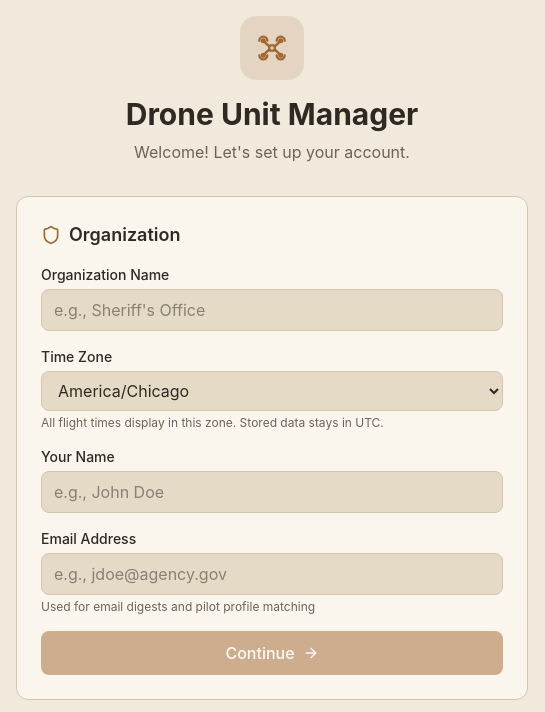
Test case: SetupPage › keeps Create Account disabled on a fresh install until the install token is entered
The image size is (545, 712).
In the field labelled "Your Name": (272, 492) [41,471,503,513], type "John Doe"
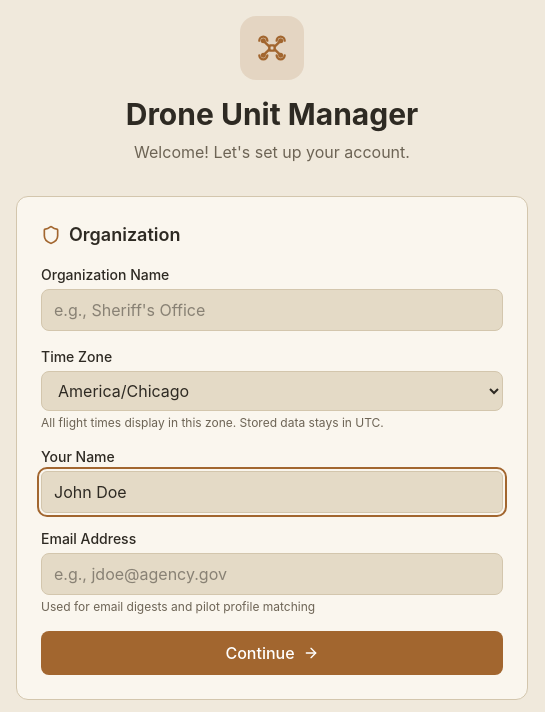
Click the button "Continue": (272, 653) [41,631,503,675]
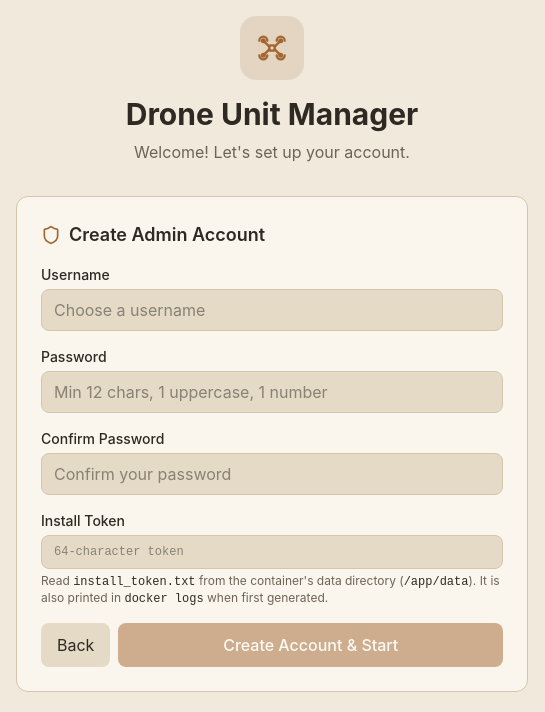
In the field labelled "Username": (272, 310) [41,289,503,331], type "admin"
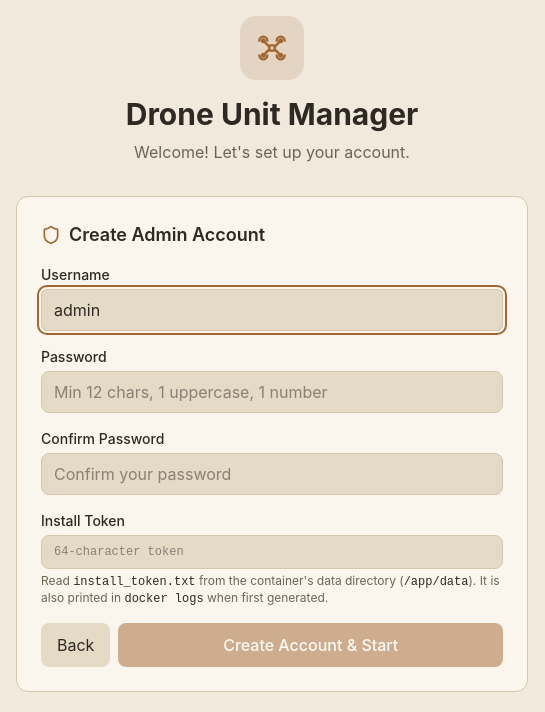
In the password field labelled "Password": (272, 392) [41,371,503,413], type "Password1234"
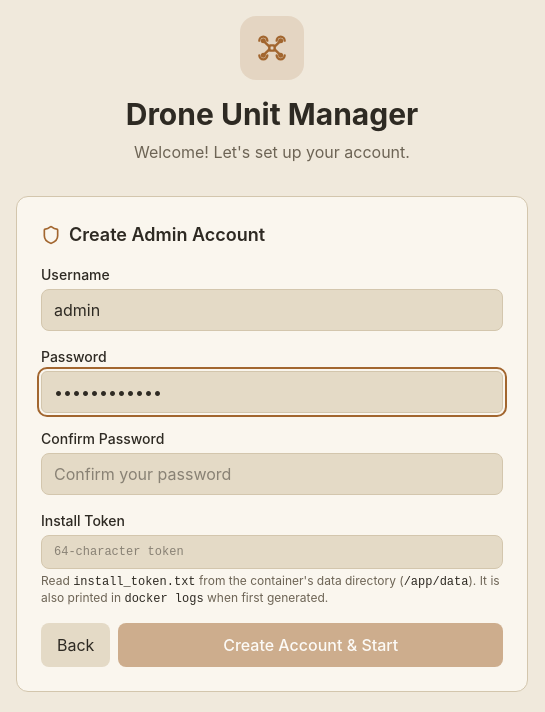
In the password field labelled "Confirm Password": (272, 474) [41,453,503,495], type "Password1234"
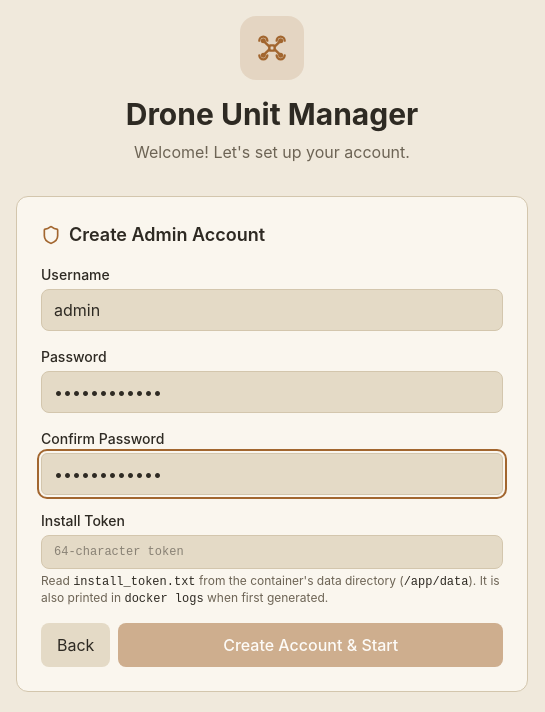
Check: the button "Create Account & Start" is disabled, box [118,623,503,667]
In the field labelled "Install Token": (272, 552) [41,535,503,569], type "the-install-token"
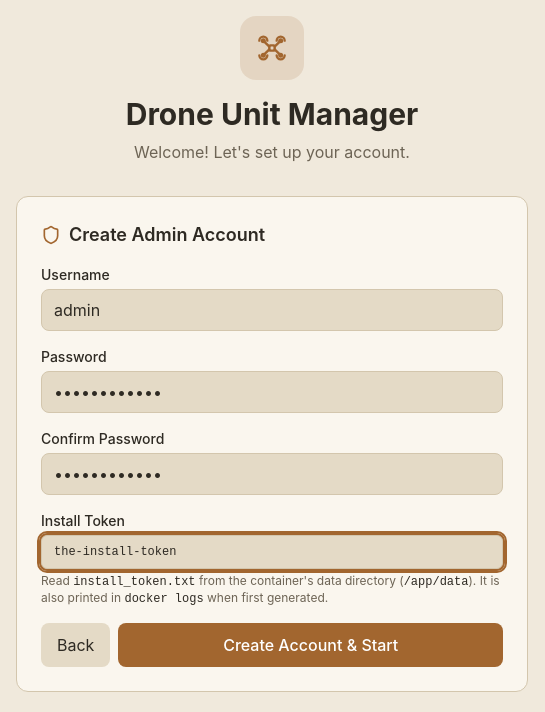
Check: the button "Create Account & Start" is enabled, box [118,623,503,667]
